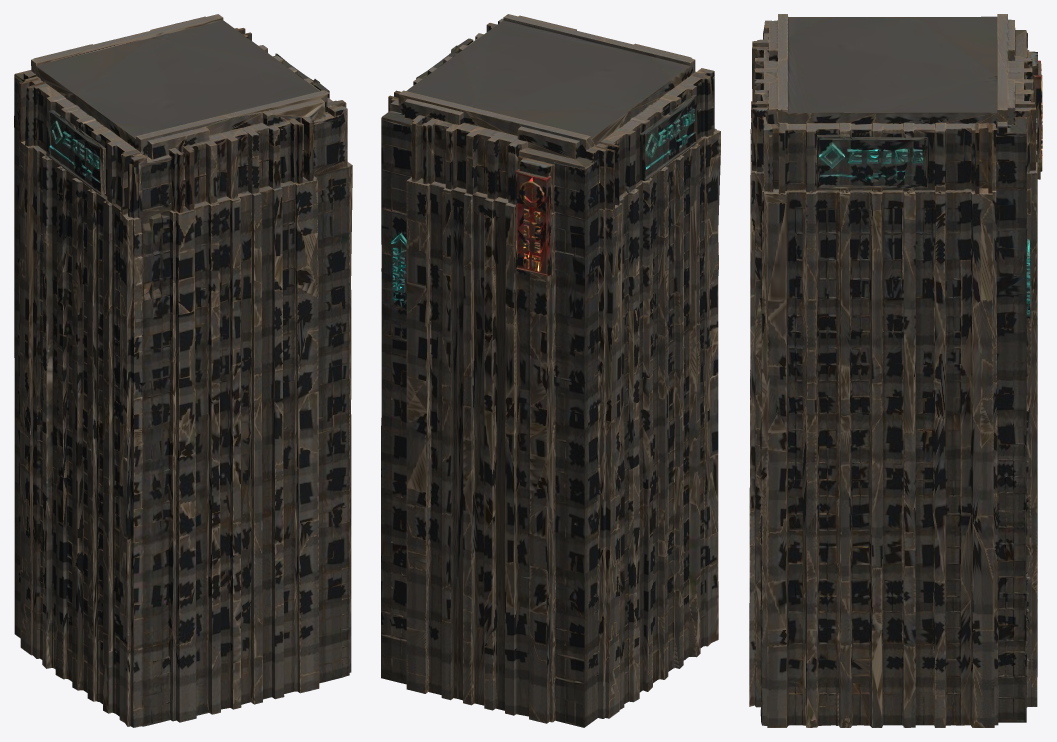
The picture shows the model from 3 angles, left to right: view 1: azimuth 30°, elevation 25°; view 2: azimuth 150°, elevation 25°; view 3: azimuth 270°, elevation 25°; orthographic projection. The views are drawn at different scales.
Visible parts, largest first — view 1: b03; view 2: b03; view 3: b03.
Part boxes in pixels (<box>): b03: <box>14,14,352,727</box>; b03: <box>381,14,720,727</box>; b03: <box>749,14,1042,727</box>.
Bounding box in the file's own units: 26.82 × 64 × 27.96.
1 material, 1 textured.
